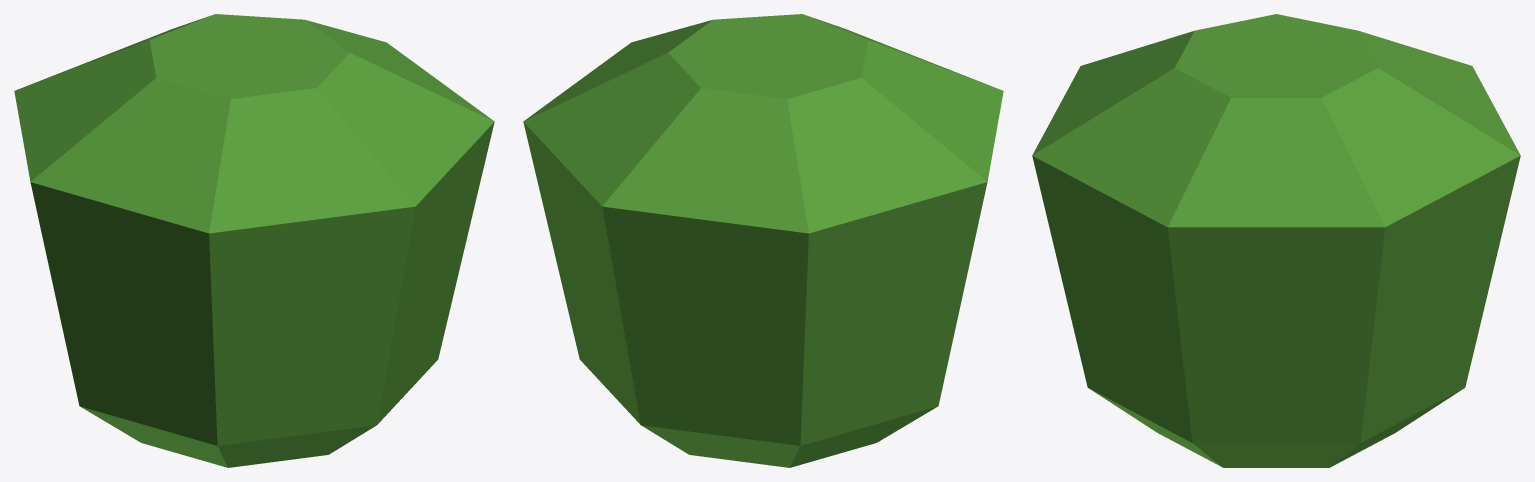
The model's file is PommeVerte.fbx.
3 renders of one model, left to right at view 1: azimuth 30°, elevation 25°; view 2: azimuth 150°, elevation 25°; view 3: azimuth 270°, elevation 25°, orthographic.
Visible parts, largest first — view 1: Cylinder.007; view 2: Cylinder.007; view 3: Cylinder.007.
Part boxes in pixels (bbox=[...]): Cylinder.007: bbox=[14, 14, 494, 467]; Cylinder.007: bbox=[523, 14, 1003, 467]; Cylinder.007: bbox=[1032, 14, 1520, 467].
Size of the model in its own units: 79.8 by 67.18 by 81.85.
